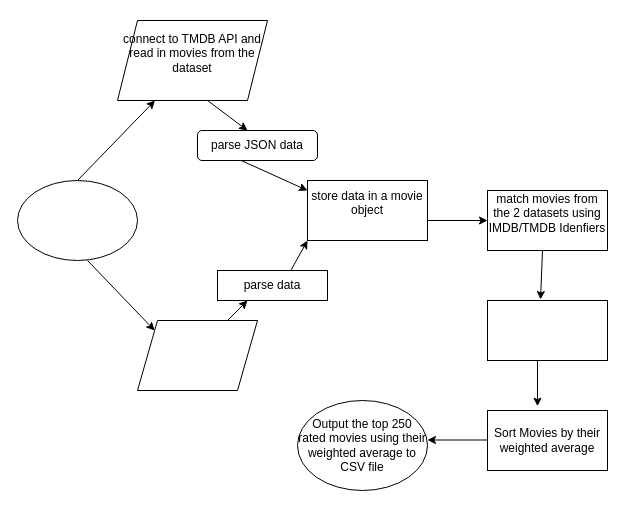
The diagram is 625 pixels wide and 508 high, and some of its shapes have lost their labels. The centre of each missing label's shape, as x and y in pixels:
download MovieLens Small Dataset and read in movies: the point at 197,355
Generate a weighed average of ratings of the movies: the point at 547,330
start the program: the point at 77,220
